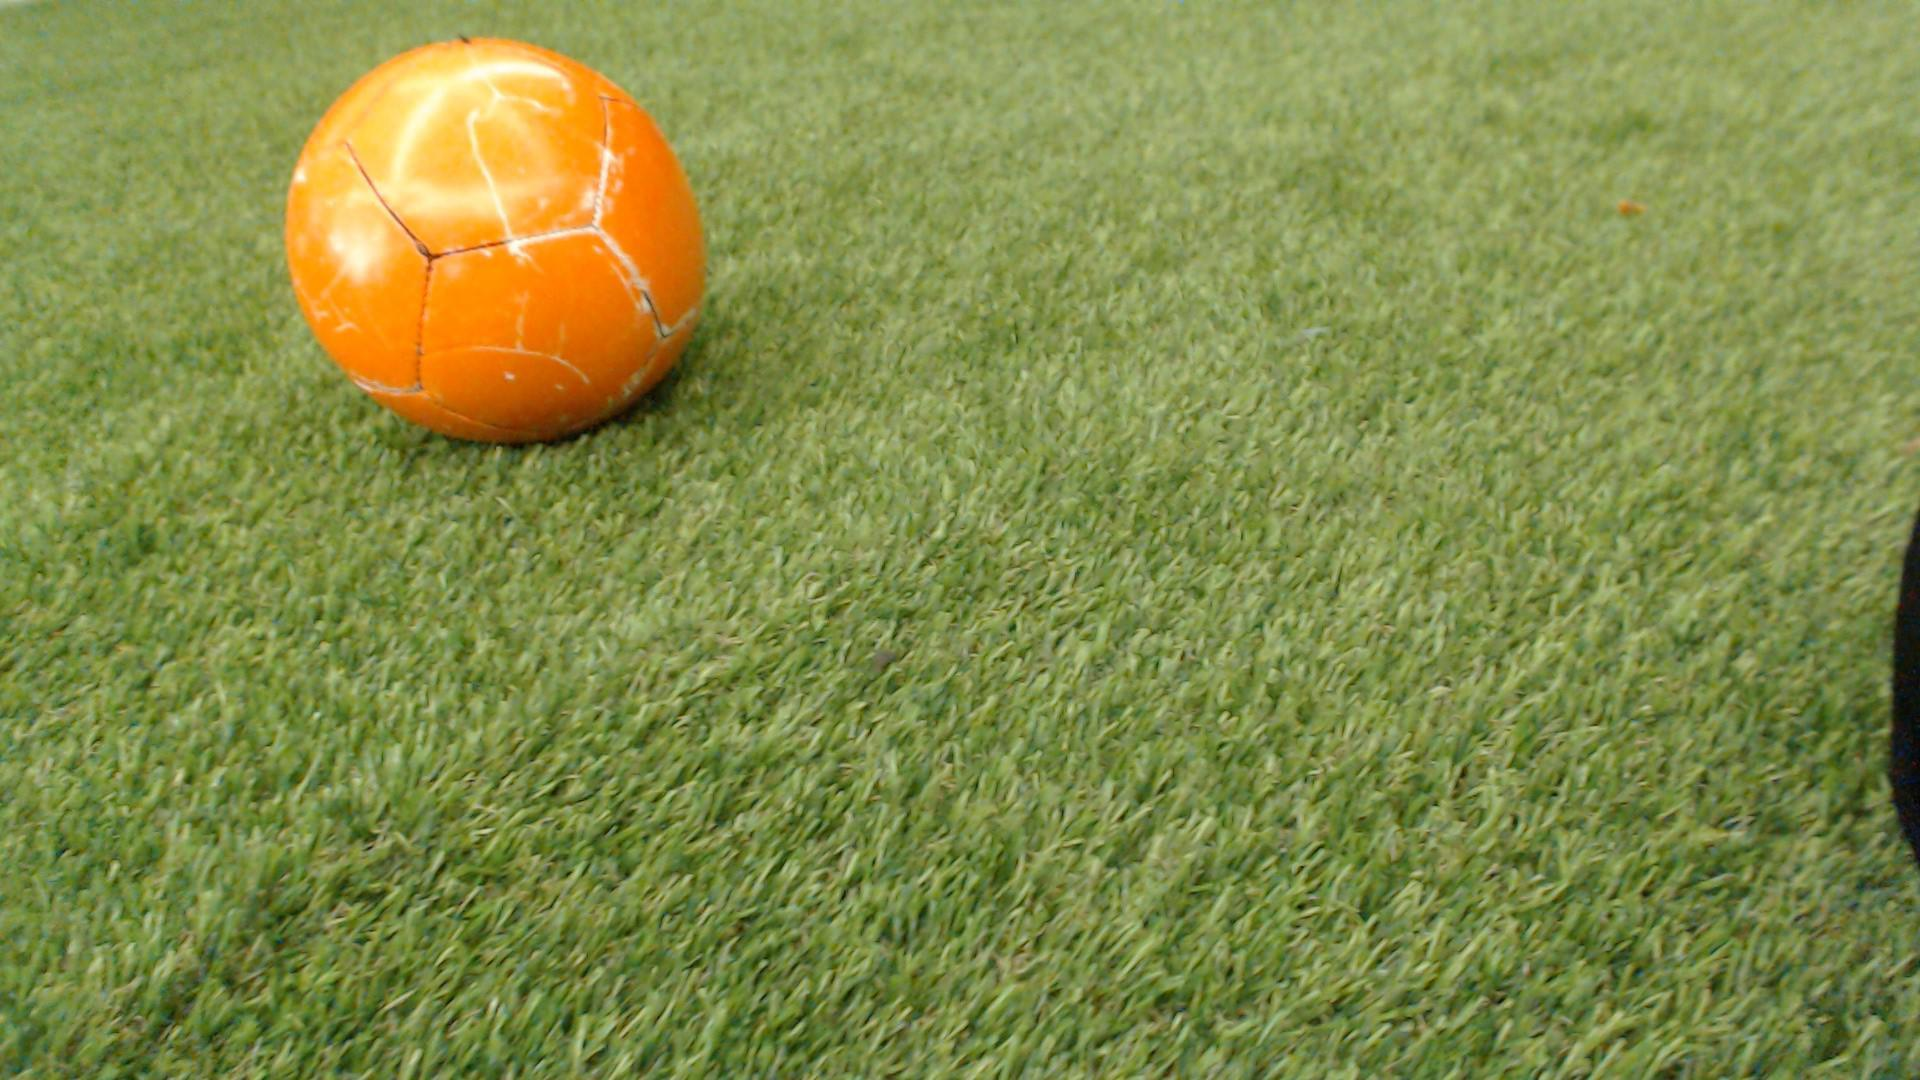bola: (278, 18, 741, 455)
